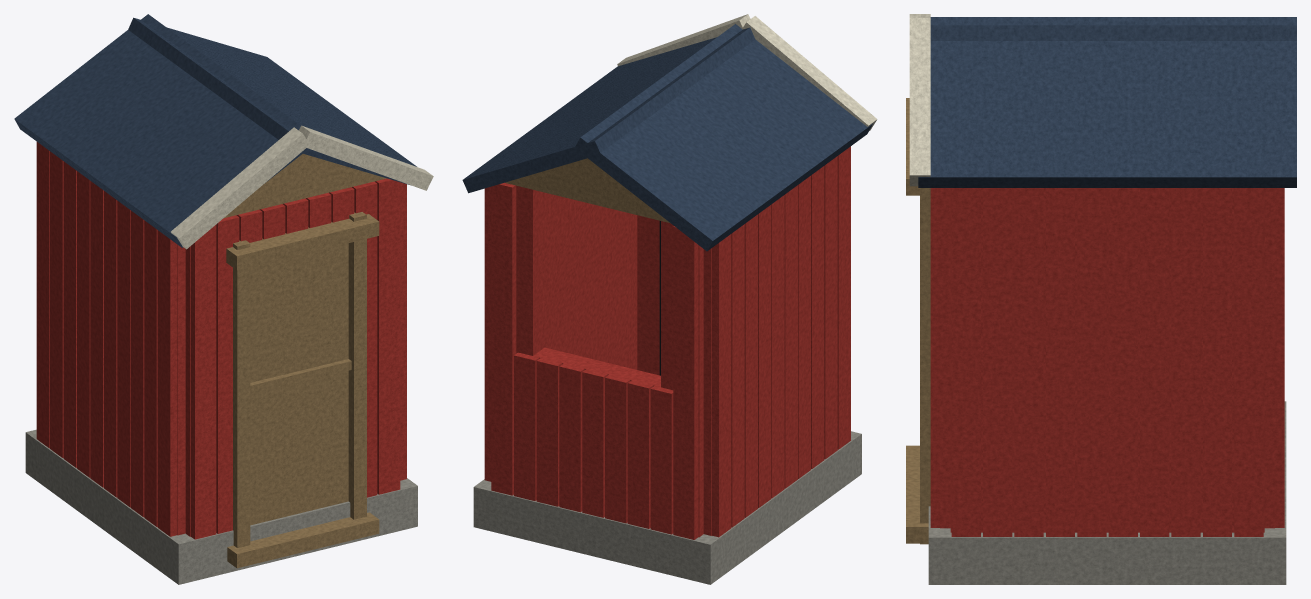
File: OUTHOUS2_lod2.glb
3 renders of one model, left to right at view 1: azimuth 30°, elevation 25°; view 2: azimuth 150°, elevation 25°; view 3: azimuth 270°, elevation 25°, orthographic. The views are drawn at different scales.
Parts seen in each view (by area): view 1: OUTHOUS2_LOD2; view 2: OUTHOUS2_LOD2; view 3: OUTHOUS2_LOD2.
Boxes of the visible parts, x1,y1,x2,y2 form: OUTHOUS2_LOD2: (14, 14, 433, 584); OUTHOUS2_LOD2: (462, 14, 877, 584); OUTHOUS2_LOD2: (906, 14, 1296, 584).
Size of the model in its own units: 1.96 by 3.17 by 2.24.
9 materials, 7 textured.
